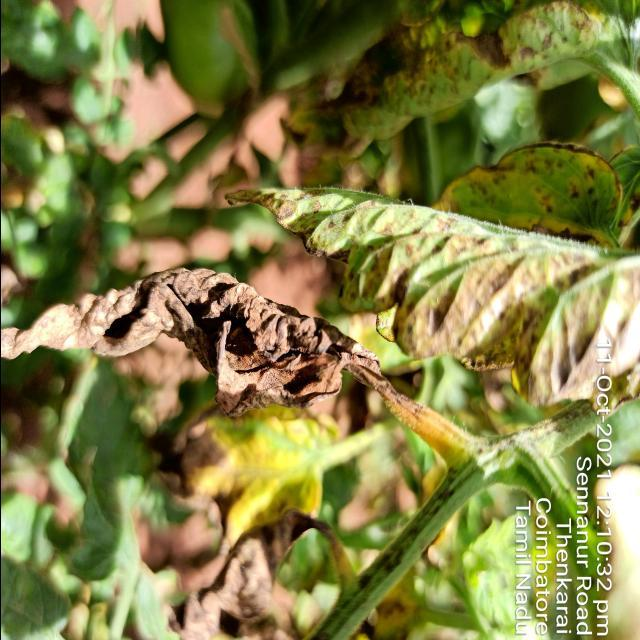Tomato mosaic virus leaf: (1, 260, 382, 424)
